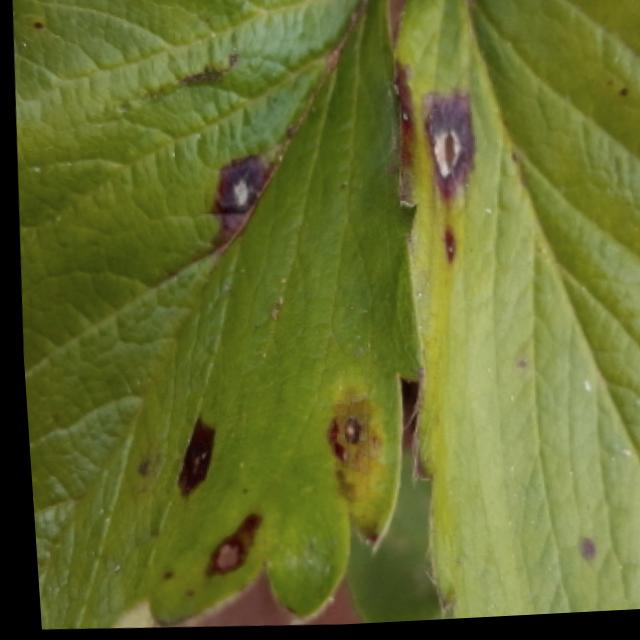Leaf Spot: (11, 0, 414, 629), (392, 0, 640, 624)
